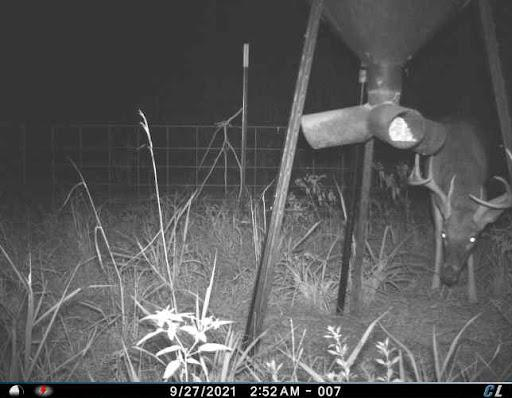Deer: (402, 109, 512, 310)
